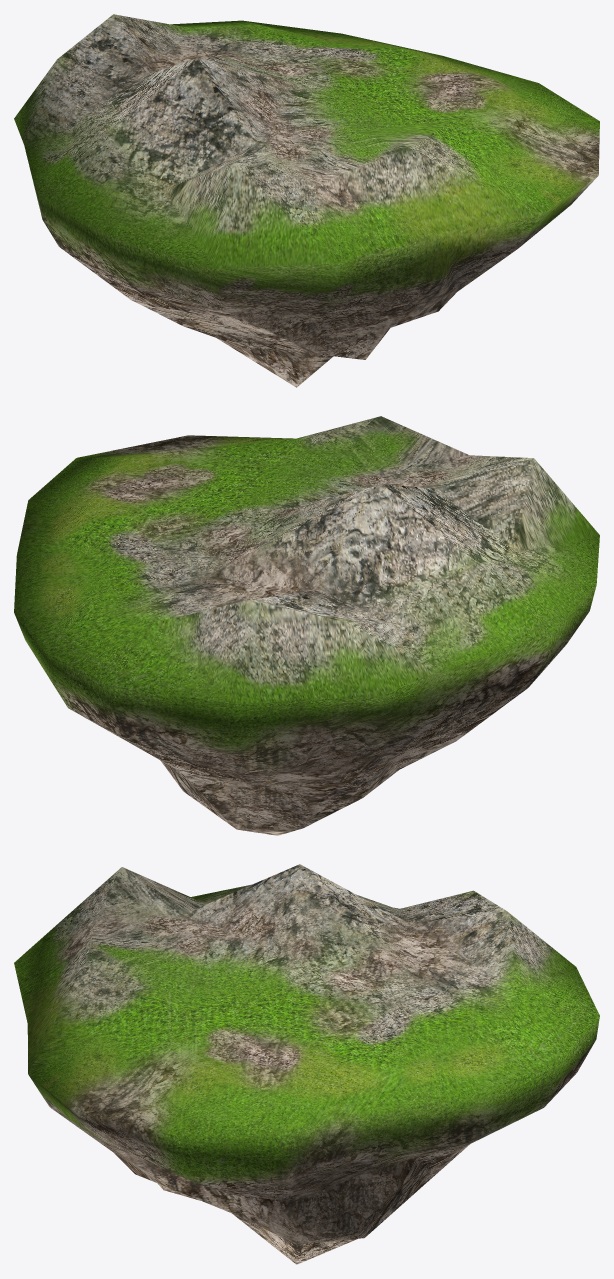
Rendered from floating island.fbx.
The picture shows the model from 3 angles, top to bottom: view 1: azimuth 30°, elevation 25°; view 2: azimuth 150°, elevation 25°; view 3: azimuth 270°, elevation 25°; orthographic projection. The views are drawn at different scales.
Visible parts, largest first — view 1: Cube; view 2: Cube; view 3: Cube.
Boxes of the visible parts, x1,y1,x2,y2 form: Cube: (14,14,599,387); Cube: (14,416,599,835); Cube: (14,864,599,1264).
Size of the model in its own units: 385 by 259 by 391.
1 material, 1 textured.
